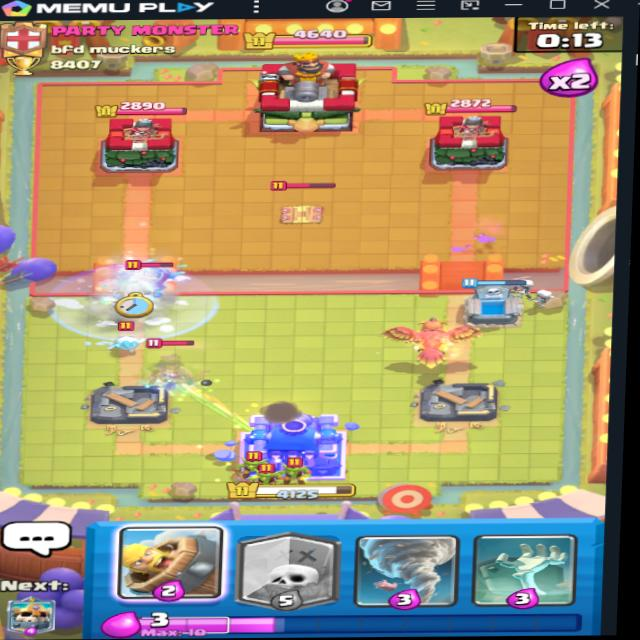archer-queen: (138, 332, 202, 393)
archer-queen-ability: (143, 335, 215, 387)
goblin: (245, 454, 290, 487), (235, 446, 275, 478), (284, 453, 312, 478)
ice-spirit: (104, 325, 154, 352)
knight: (116, 253, 185, 303)
tesla-closed: (261, 166, 344, 231)
